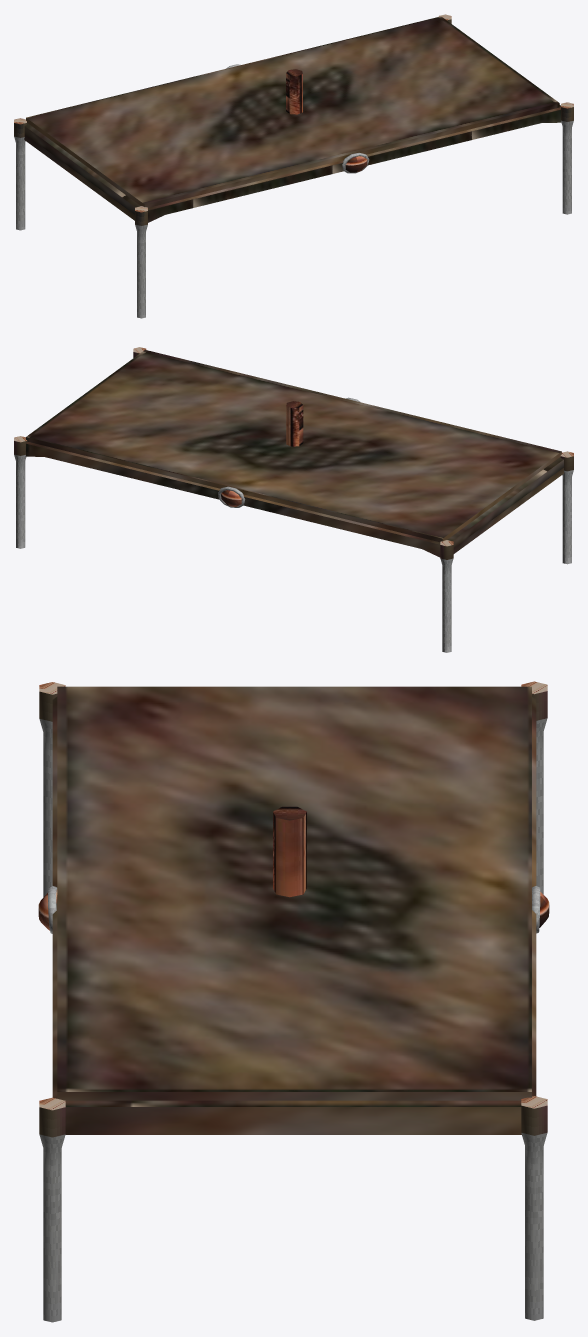
Rendered from stoliczekerust.glb.
The picture shows the model from 3 angles, top to bottom: view 1: azimuth 30°, elevation 25°; view 2: azimuth 150°, elevation 25°; view 3: azimuth 270°, elevation 25°; orthographic projection. The views are drawn at different scales.
Visible parts, largest first — view 1: Box001, Cylinder002, Cylinder004, Cylinder001, Cylinder005; view 2: Box001, Cylinder004, Cylinder003, Cylinder001, Cylinder005; view 3: Box001, Cylinder002, Cylinder003, Cylinder005, Cylinder001, Cylinder004.
Part boxes in pixels (left/top/right/bottom): Box001: left=24, top=16, right=561, bottom=222; Cylinder002: left=561, top=102, right=573, bottom=214; Cylinder004: left=14, top=118, right=26, bottom=230; Cylinder001: left=135, top=206, right=147, bottom=318; Cylinder005: left=286, top=69, right=302, bottom=114; Box001: left=25, top=350, right=563, bottom=557; Cylinder004: left=440, top=540, right=453, bottom=652; Cylinder003: left=14, top=436, right=27, bottom=548; Cylinder001: left=560, top=451, right=573, bottom=564; Cylinder005: left=286, top=401, right=303, bottom=446; Box001: left=52, top=686, right=536, bottom=1134; Cylinder002: left=39, top=1097, right=65, bottom=1322; Cylinder003: left=521, top=1096, right=547, bottom=1320; Cylinder005: left=273, top=806, right=306, bottom=897; Cylinder001: left=39, top=682, right=65, bottom=897; Cylinder004: left=521, top=681, right=547, bottom=894.
Bounding box in the file's own units: 1.54 × 0.4974 × 0.7761.
4 materials, 4 textured.
